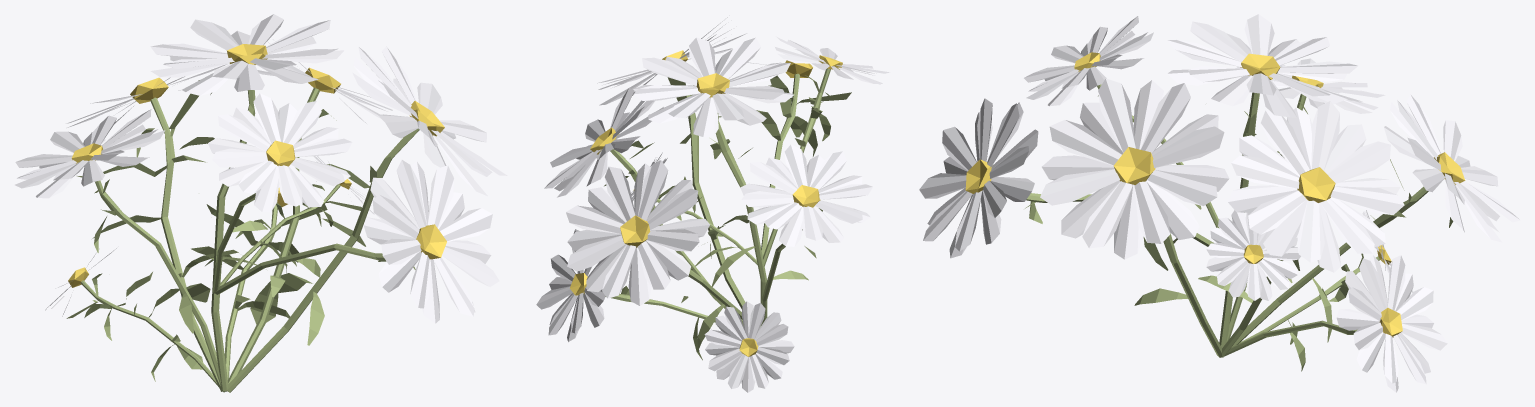
The picture shows the model from 3 angles, left to right: view 1: azimuth 30°, elevation 25°; view 2: azimuth 150°, elevation 25°; view 3: azimuth 270°, elevation 25°; orthographic projection. The views are drawn at different scales.
Visible parts, largest first — view 1: node_margarita (8)_-2121834_11, node_margarita (9)_-2122542_8, node_margarita (6)_-2117574_5, node_margarita_-2109454_9, node_margarita (4)_-2111692_3, node_margarita (1)_-2110252_6, node_margarita (3)_-2111142_1, node_margarita (2)_-2110504_10, node_margarita (5)_-2111982_7, node_margarita (7)_-2118288_2; view 2: node_margarita (1)_-2110252_6, node_margarita_-2109454_9, node_margarita (4)_-2111692_3, node_margarita (5)_-2111982_7, node_margarita (3)_-2111142_1, node_margarita (2)_-2110504_10, node_margarita (9)_-2122542_8, node_margarita (6)_-2117574_5, node_margarita (8)_-2121834_11, node_margarita (7)_-2118288_2; view 3: node_margarita (6)_-2117574_5, node_margarita (3)_-2111142_1, node_margarita_-2109454_9, node_margarita (8)_-2121834_11, node_margarita (2)_-2110504_10, node_margarita (1)_-2110252_6, node_margarita (7)_-2118288_2, node_margarita (9)_-2122542_8, node_margarita (4)_-2111692_3, node_margarita (5)_-2111982_7.
Part boxes in pixels (left/top/right/bottom): node_margarita (8)_-2121834_11: left=215, top=160, right=499, bottom=323; node_margarita (9)_-2122542_8: left=208, top=93, right=352, bottom=293; node_margarita (6)_-2117574_5: left=227, top=46, right=507, bottom=392; node_margarita_-2109454_9: left=150, top=14, right=343, bottom=391; node_margarita (4)_-2111692_3: left=15, top=109, right=221, bottom=385; node_margarita (1)_-2110252_6: left=66, top=64, right=242, bottom=391; node_margarita (3)_-2111142_1: left=205, top=39, right=392, bottom=391; node_margarita (2)_-2110504_10: left=191, top=187, right=327, bottom=391; node_margarita (5)_-2111982_7: left=45, top=248, right=225, bottom=392; node_margarita (7)_-2118288_2: left=220, top=156, right=374, bottom=285; node_margarita (1)_-2110252_6: left=566, top=160, right=742, bottom=348; node_margarita_-2109454_9: left=633, top=37, right=816, bottom=325; node_margarita (4)_-2111692_3: left=740, top=144, right=872, bottom=325; node_margarita (5)_-2111982_7: left=704, top=301, right=794, bottom=392; node_margarita (3)_-2111142_1: left=544, top=87, right=743, bottom=325; node_margarita (2)_-2110504_10: left=536, top=229, right=715, bottom=360; node_margarita (9)_-2122542_8: left=763, top=36, right=889, bottom=266; node_margarita (6)_-2117574_5: left=597, top=17, right=746, bottom=309; node_margarita (8)_-2121834_11: left=748, top=60, right=851, bottom=256; node_margarita (7)_-2118288_2: left=631, top=152, right=757, bottom=264; node_margarita (6)_-2117574_5: left=1040, top=78, right=1229, bottom=357; node_margarita (3)_-2111142_1: left=1198, top=101, right=1404, bottom=357; node_margarita_-2109454_9: left=1167, top=14, right=1358, bottom=347; node_margarita (8)_-2121834_11: left=919, top=98, right=1213, bottom=270; node_margarita (2)_-2110504_10: left=1224, top=255, right=1447, bottom=392; node_margarita (1)_-2110252_6: left=1232, top=94, right=1520, bottom=346; node_margarita (7)_-2118288_2: left=1206, top=210, right=1300, bottom=300; node_margarita (9)_-2122542_8: left=1024, top=16, right=1219, bottom=228; node_margarita (4)_-2111692_3: left=1226, top=58, right=1385, bottom=342; node_margarita (5)_-2111982_7: left=1239, top=210, right=1413, bottom=344.
Bounding box in the file's own units: 2.23 × 1.86 × 2.99.
